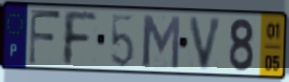5: (109, 12, 137, 68)
8: (228, 16, 257, 73)
F: (61, 9, 99, 69), (27, 7, 64, 67)
M: (140, 12, 182, 71)
V: (187, 15, 226, 72)
